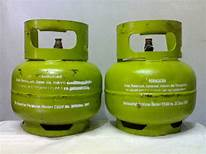gas_ijo: (10, 18, 102, 137), (105, 20, 197, 136)
